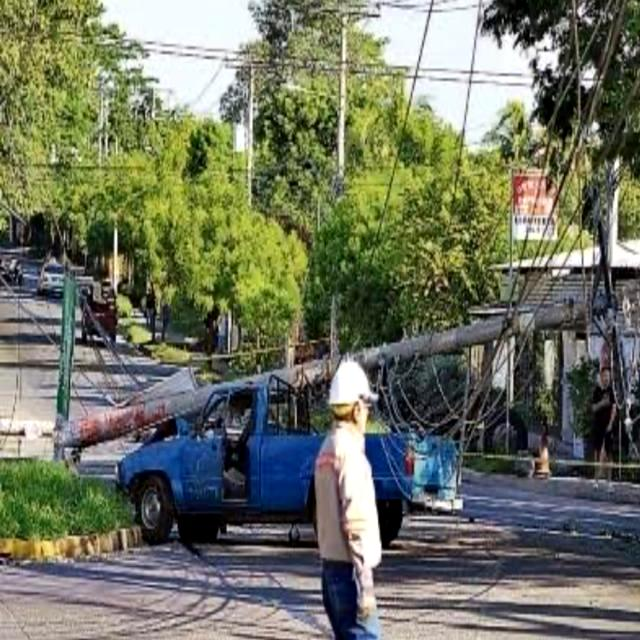Broken Pole: (59, 177, 640, 455)
